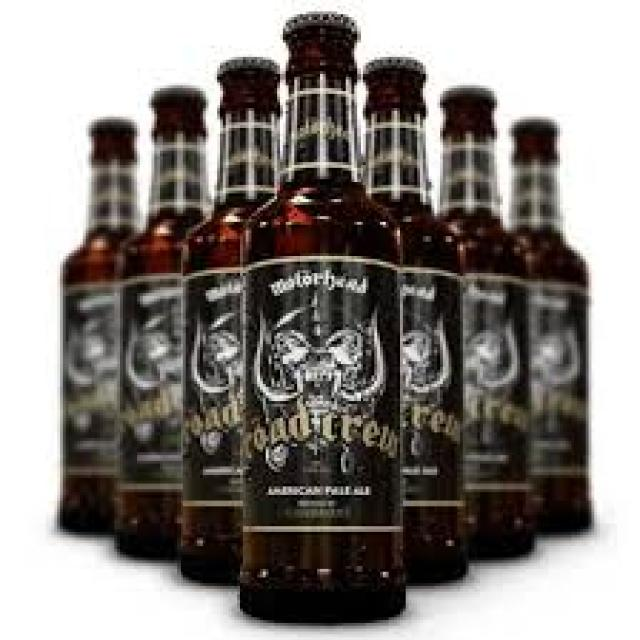glass: (237, 26, 406, 623), (360, 65, 469, 586), (180, 69, 280, 581), (112, 94, 209, 560), (437, 94, 532, 560), (503, 125, 588, 532), (60, 122, 129, 529)
metal: (280, 9, 357, 32), (214, 54, 277, 65), (363, 54, 420, 63), (149, 83, 200, 91), (506, 114, 549, 122), (86, 111, 126, 119), (440, 83, 486, 88)
